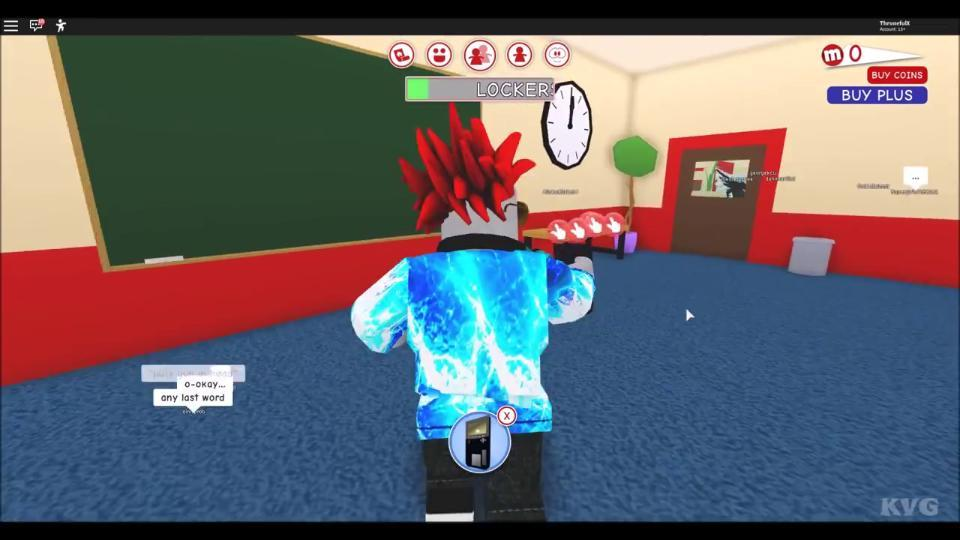Character: (352, 102, 595, 522)
